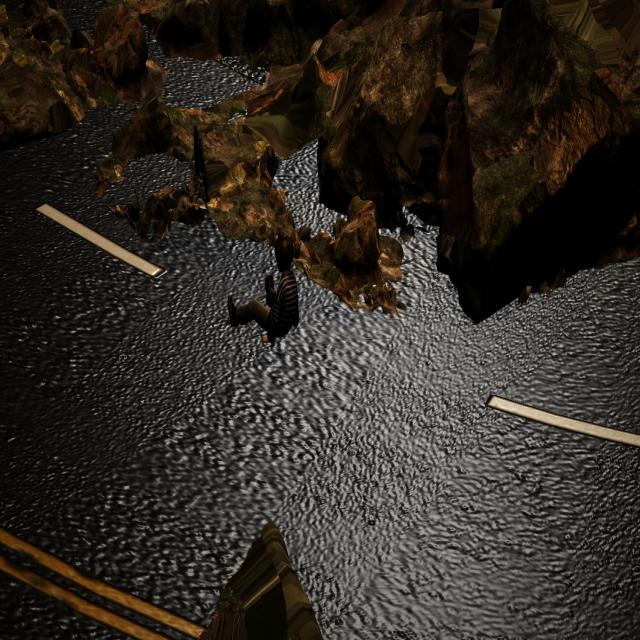Human: (228, 232, 304, 350)
